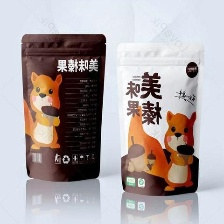snack: (111, 33, 213, 201), (14, 26, 113, 187)
